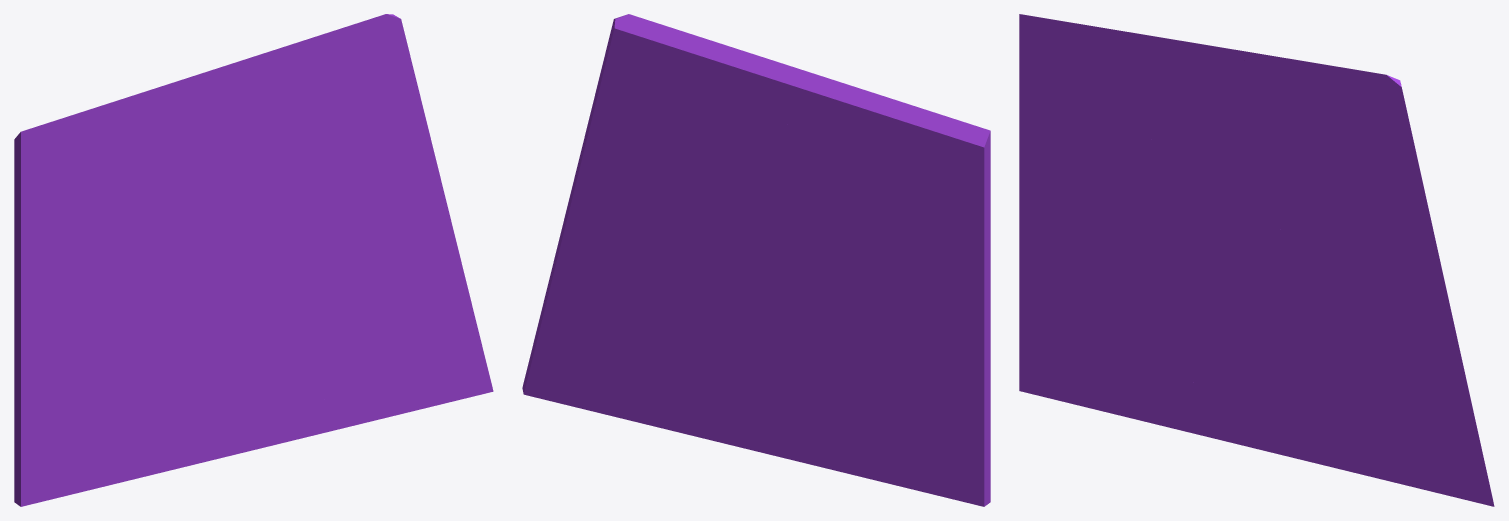
The model's file is Window_39_0_chunks.fbx.
The picture shows the model from 3 angles, left to right: view 1: azimuth 30°, elevation 25°; view 2: azimuth 150°, elevation 25°; view 3: azimuth 330°, elevation 25°; orthographic projection.
Parts seen in each view (by area): view 1: Window_39_0_3, Window_39_0_21, Window_39_0_20, Window_39_0_10, Window_39_0_18, Window_39_0_1, Window_39_0_6, Window_39_0_11, Window_39_0_8, Window_39_0_5, Window_39_0_19, Window_39_0_24 (+13 smaller); view 2: Window_39_0_3, Window_39_0_21, Window_39_0_20, Window_39_0_1, Window_39_0_6, Window_39_0_8, Window_39_0_9, Window_39_0_5, Window_39_0_4, Window_39_0_24, Window_39_0_11, Window_39_0_18 (+14 smaller); view 3: Window_39_0_3, Window_39_0_21, Window_39_0_20, Window_39_0_10, Window_39_0_18, Window_39_0_1, Window_39_0_6, Window_39_0_11, Window_39_0_8, Window_39_0_5, Window_39_0_19, Window_39_0_24 (+13 smaller).
Boxes of the visible parts, bbox=[...] form: Window_39_0_3: bbox=[275, 121, 470, 297]; Window_39_0_21: bbox=[14, 239, 155, 423]; Window_39_0_20: bbox=[14, 121, 109, 291]; Window_39_0_10: bbox=[14, 380, 188, 506]; Window_39_0_18: bbox=[363, 311, 493, 418]; Window_39_0_1: bbox=[201, 217, 359, 335]; Window_39_0_6: bbox=[149, 135, 259, 311]; Window_39_0_11: bbox=[155, 268, 253, 420]; Window_39_0_8: bbox=[14, 297, 166, 479]; Window_39_0_5: bbox=[323, 14, 426, 122]; Window_39_0_19: bbox=[252, 252, 381, 368]; Window_39_0_24: bbox=[52, 78, 197, 176]; Window_39_0_3: bbox=[545, 121, 727, 301]; Window_39_0_21: bbox=[848, 244, 990, 427]; Window_39_0_20: bbox=[894, 120, 990, 292]; Window_39_0_1: bbox=[639, 220, 810, 344]; Window_39_0_6: bbox=[741, 137, 855, 316]; Window_39_0_8: bbox=[838, 302, 990, 484]; Window_39_0_9: bbox=[805, 381, 966, 502]; Window_39_0_5: bbox=[588, 14, 691, 129]; Window_39_0_4: bbox=[668, 34, 743, 213]; Window_39_0_24: bbox=[817, 78, 959, 180]; Window_39_0_11: bbox=[758, 278, 849, 410]; Window_39_0_18: bbox=[522, 310, 630, 415]; Window_39_0_3: bbox=[1274, 164, 1470, 400]; Window_39_0_21: bbox=[1019, 159, 1154, 307]; Window_39_0_20: bbox=[1019, 14, 1108, 174]; Window_39_0_10: bbox=[1019, 329, 1188, 424]; Window_39_0_18: bbox=[1363, 383, 1494, 506]; Window_39_0_1: bbox=[1200, 218, 1359, 333]; Window_39_0_6: bbox=[1149, 134, 1258, 258]; Window_39_0_11: bbox=[1154, 239, 1253, 393]; Window_39_0_8: bbox=[1019, 252, 1166, 359]; Window_39_0_5: bbox=[1323, 64, 1427, 202]; Window_39_0_19: bbox=[1252, 301, 1382, 391]; Window_39_0_24: bbox=[1051, 19, 1197, 120].
Bounding box in the file's own units: 1149 × 938 × 27.2.
